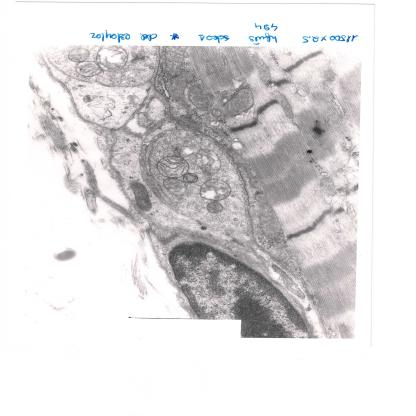mitochondria: (164, 68, 192, 105), (223, 89, 254, 118), (198, 177, 233, 202), (154, 154, 190, 178), (192, 148, 221, 176), (95, 46, 128, 70), (129, 181, 153, 211), (187, 87, 216, 111), (159, 178, 188, 197), (76, 62, 104, 79), (66, 48, 92, 62), (182, 173, 199, 184), (206, 202, 224, 212)
